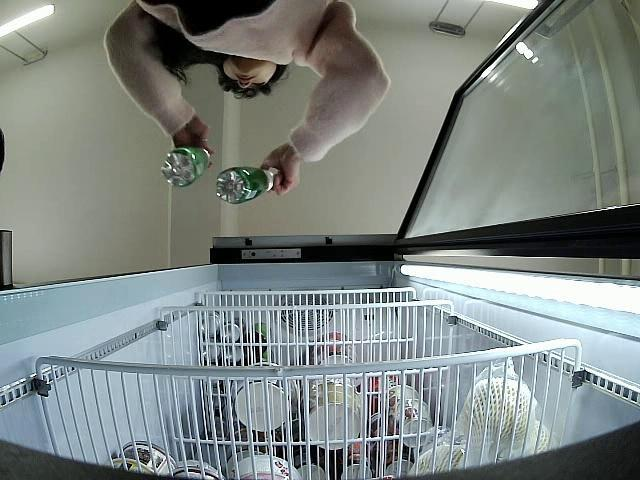18_trevi: (216, 167, 274, 204), (162, 144, 208, 190)
